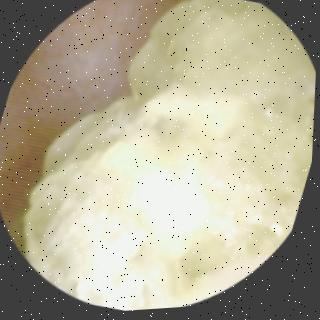stone: (27, 0, 316, 312)
tissue: (0, 0, 174, 242)
